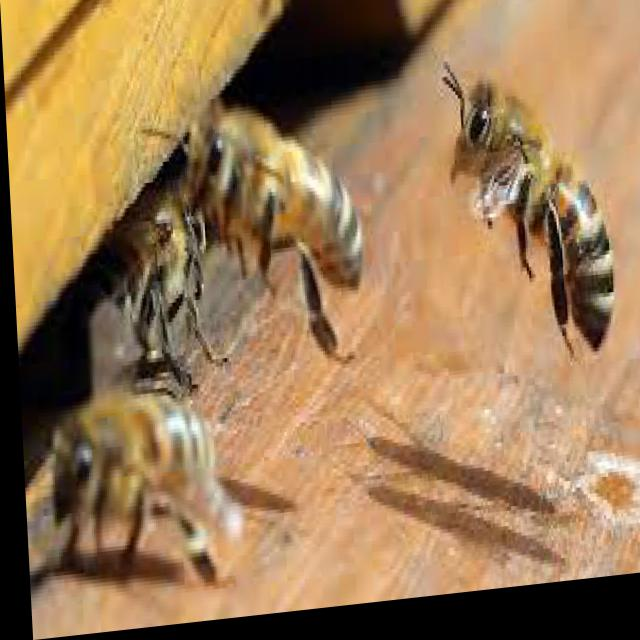Abeille: (434, 22, 627, 406), (152, 64, 369, 377), (34, 354, 269, 626)
